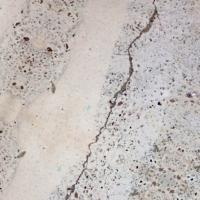crack: (65, 0, 173, 199)
